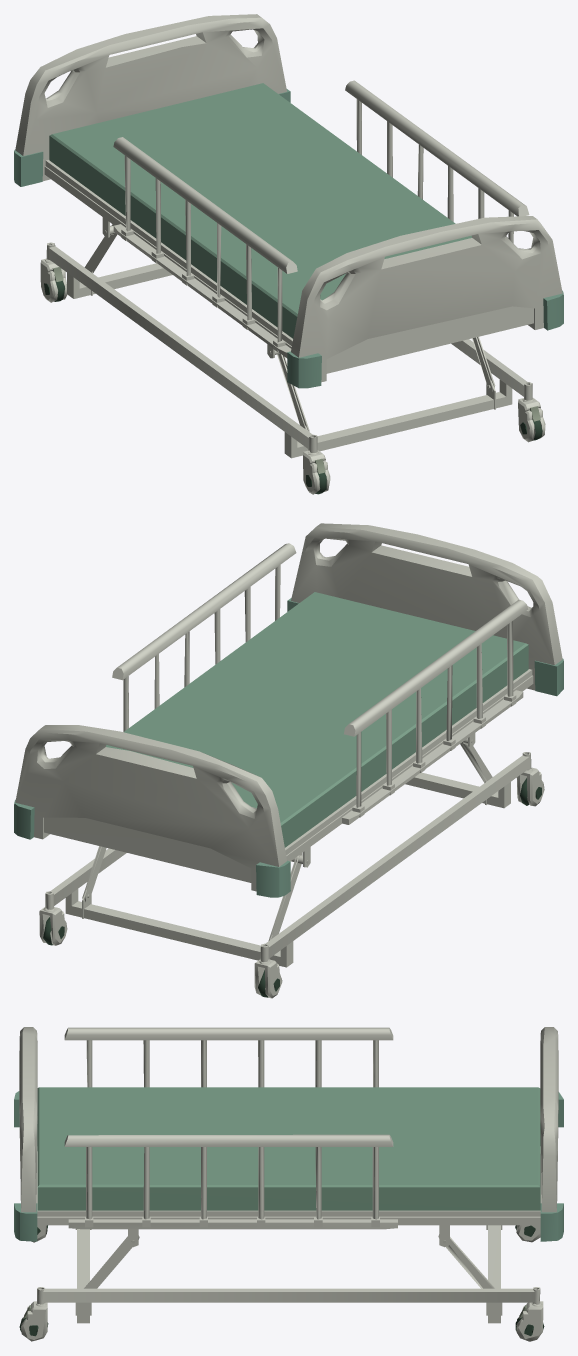
Rendered from hospital-bed.glb.
The picture shows the model from 3 angles, top to bottom: view 1: azimuth 30°, elevation 25°; view 2: azimuth 150°, elevation 25°; view 3: azimuth 270°, elevation 25°; orthographic projection. The views are drawn at different scales.
Visible parts, largest first — view 1: Plane_Material_0; view 2: Plane_Material_0; view 3: Plane_Material_0.
Boxes of the visible parts, left/top/right/bottom form: Plane_Material_0: left=14, top=14, right=563, bottom=494; Plane_Material_0: left=14, top=523, right=563, bottom=998; Plane_Material_0: left=14, top=1027, right=563, bottom=1341.
Size of the model in its own units: 8.8 by 7.38 by 16.43.
